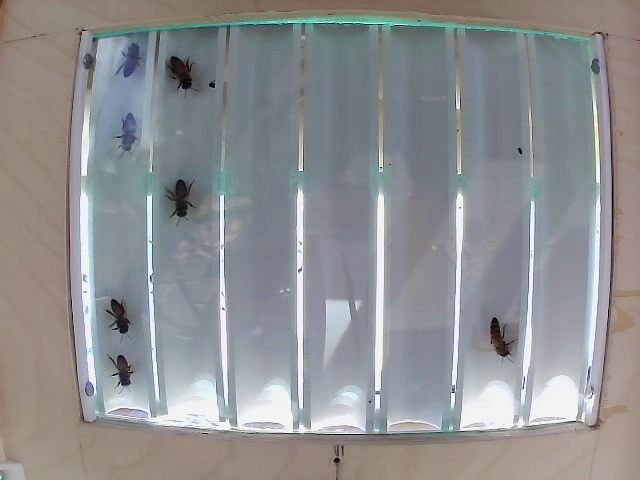bee: (471, 307, 521, 369), (154, 54, 200, 99), (93, 297, 139, 340), (105, 347, 150, 387), (108, 118, 150, 160), (110, 45, 151, 83), (170, 176, 198, 224)
